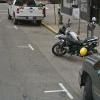Motorcycle: (47, 19, 97, 62)
